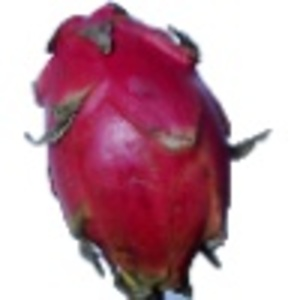pitaia: (25, 1, 270, 300)
